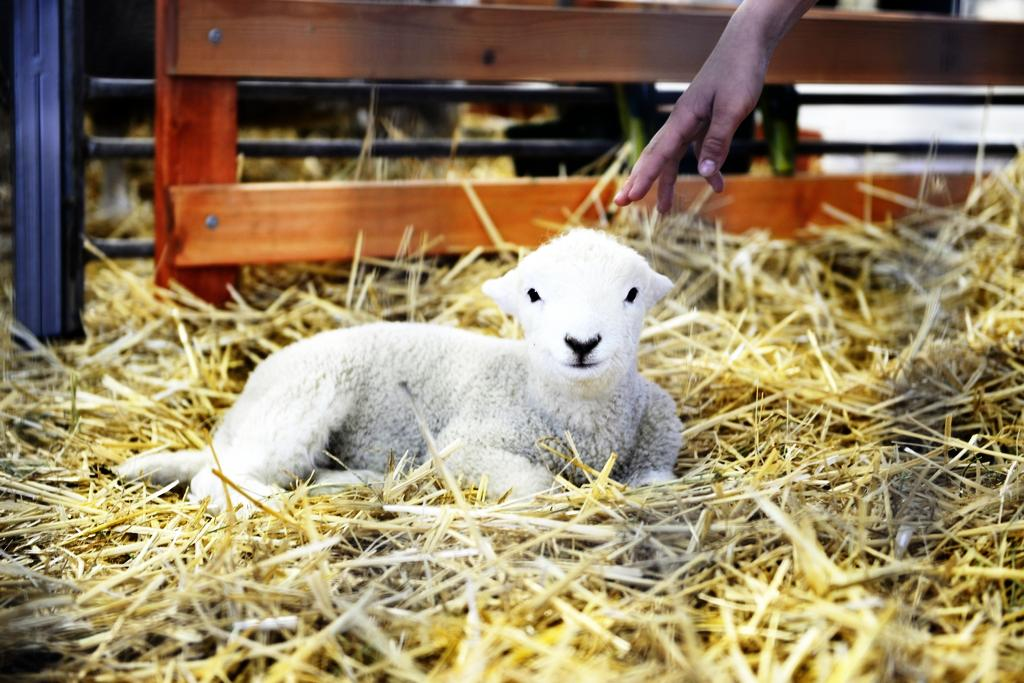Sheep: (107, 226, 684, 517)
